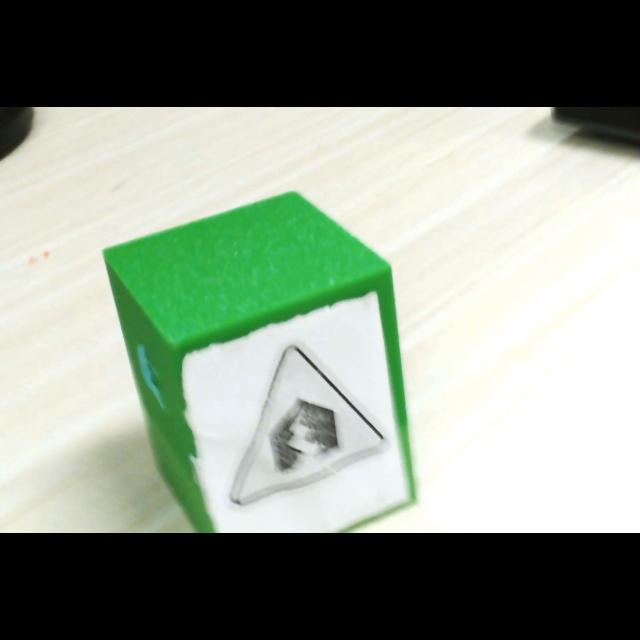Earthquake: (229, 345, 387, 507), (233, 344, 387, 488)
